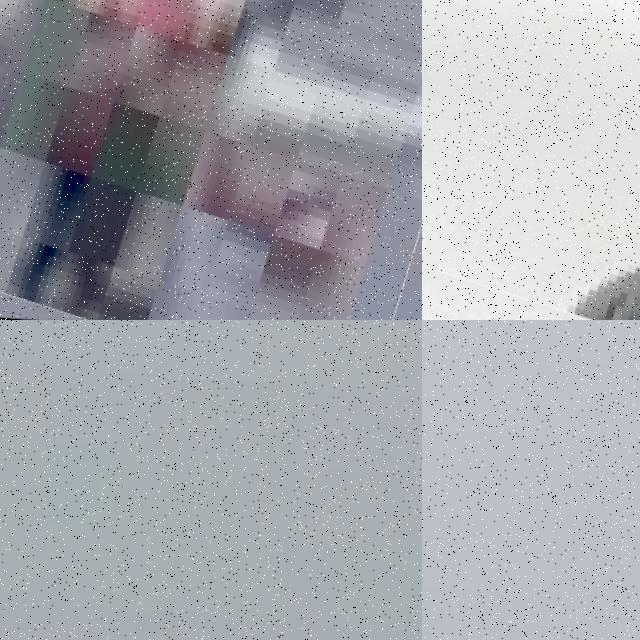0: (0, 0, 422, 320)
drone: (422, 0, 640, 320)
